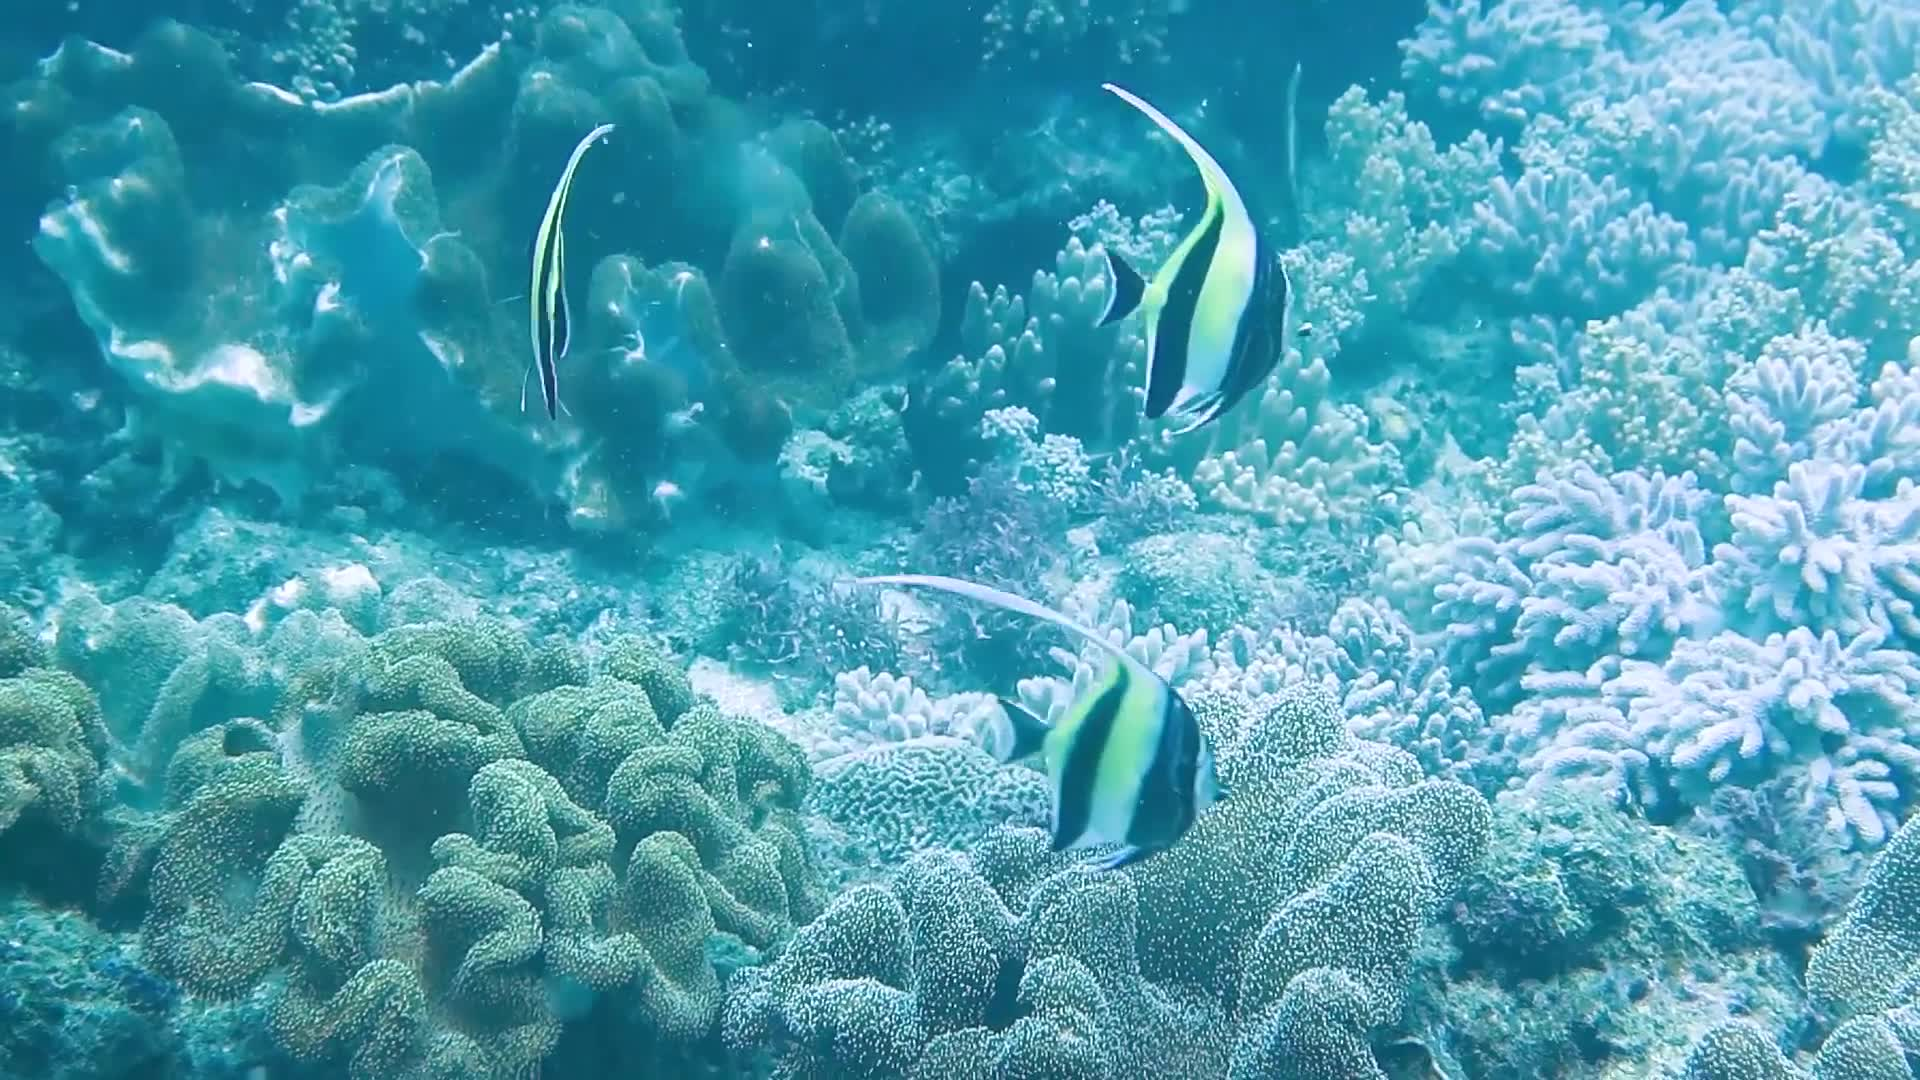Zanclus cornutus: (1069, 86, 1335, 460), (984, 538, 1249, 913), (436, 107, 702, 481)
